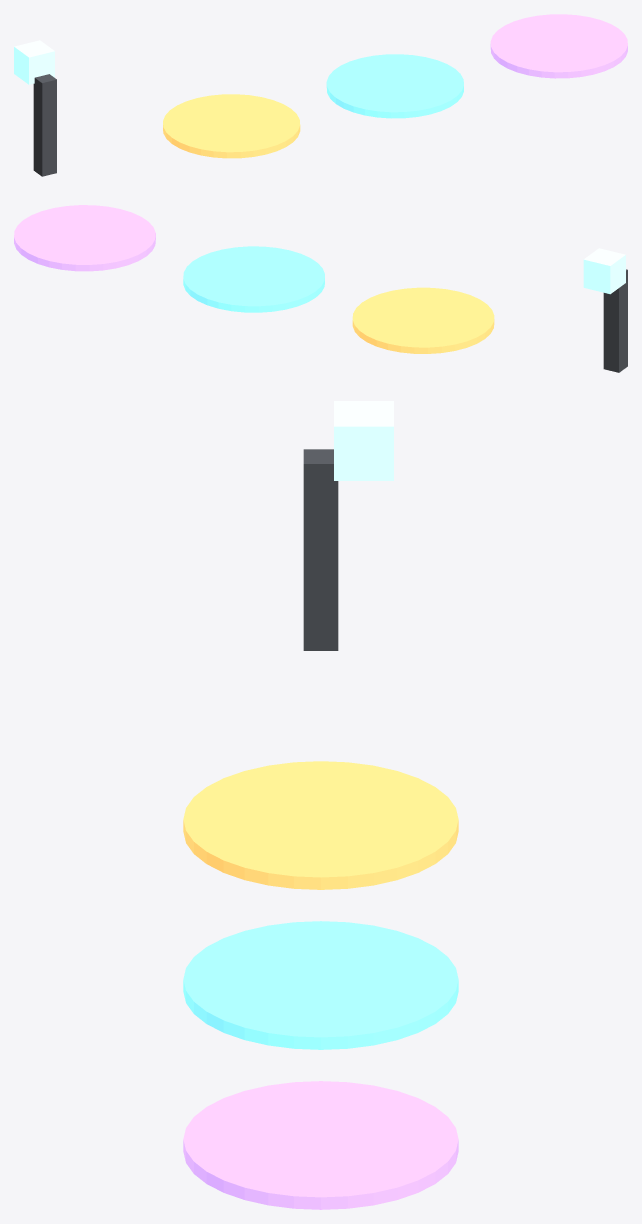
File: cop_markers.glb
3 renders of one model, top to bottom at view 1: azimuth 30°, elevation 25°; view 2: azimuth 150°, elevation 25°; view 3: azimuth 270°, elevation 25°, orthographic. The views are drawn at different scales.
Visible parts, largest first — view 1: heat_amber, heat_cyan, heat_violet, cctv_pylon, cctv_head; view 2: heat_amber, heat_violet, heat_cyan, cctv_pylon, cctv_head; view 3: heat_amber, heat_cyan, heat_violet, cctv_pylon, cctv_head.
Part boxes in pixels (box(x1,y1,x2,y2)): heat_amber: box(163, 94, 300, 158); heat_cyan: box(326, 54, 463, 118); heat_violet: box(490, 14, 627, 78); cctv_pylon: box(33, 74, 56, 176); cctv_head: box(14, 40, 54, 84); heat_amber: box(352, 287, 494, 353); heat_violet: box(14, 205, 155, 271); heat_cyan: box(183, 246, 324, 312); cctv_pylon: box(603, 269, 627, 372); cctv_head: box(583, 248, 625, 294); heat_amber: box(183, 761, 458, 889); heat_cyan: box(183, 921, 458, 1049); heat_violet: box(183, 1081, 458, 1209); cctv_pylon: box(303, 449, 338, 650); cctv_head: box(334, 401, 393, 480).
Size of the model in its own units: 7.88 by 1.51 by 1.6.
